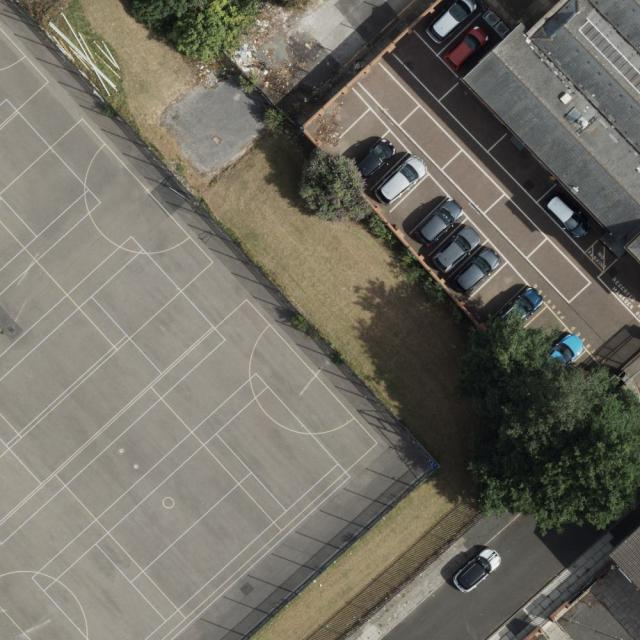roof: (462, 0, 640, 264), (610, 528, 640, 593)
skylight: (578, 16, 640, 94), (562, 108, 581, 127)
